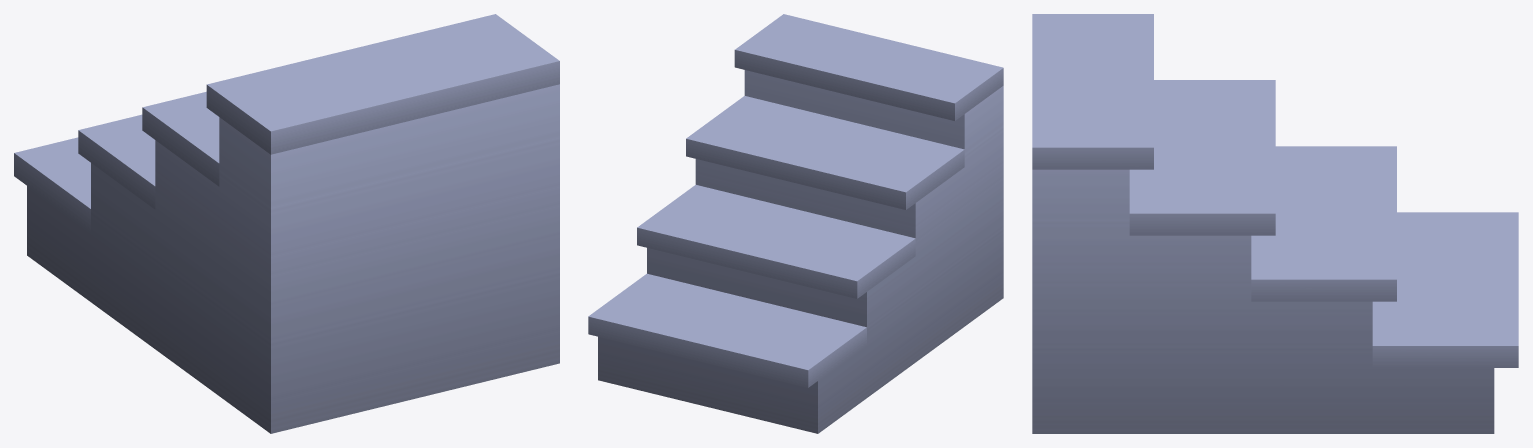
The model's file is building_stairs_closed_short.glb.
3 renders of one model, left to right at view 1: azimuth 30°, elevation 25°; view 2: azimuth 150°, elevation 25°; view 3: azimuth 270°, elevation 25°, orthographic. The views are drawn at different scales.
Visible parts, largest first — view 1: stairs-closed-short; view 2: stairs-closed-short; view 3: stairs-closed-short.
Boxes of the visible parts, x1=… form: stairs-closed-short: x1=14, y1=14, x2=559, y2=433; stairs-closed-short: x1=588, y1=14, x2=1003, y2=433; stairs-closed-short: x1=1032, y1=14, x2=1518, y2=433.
Size of the model in its own units: 1.3 by 1.3 by 2.
Materials: 1 (1 with a texture image).
